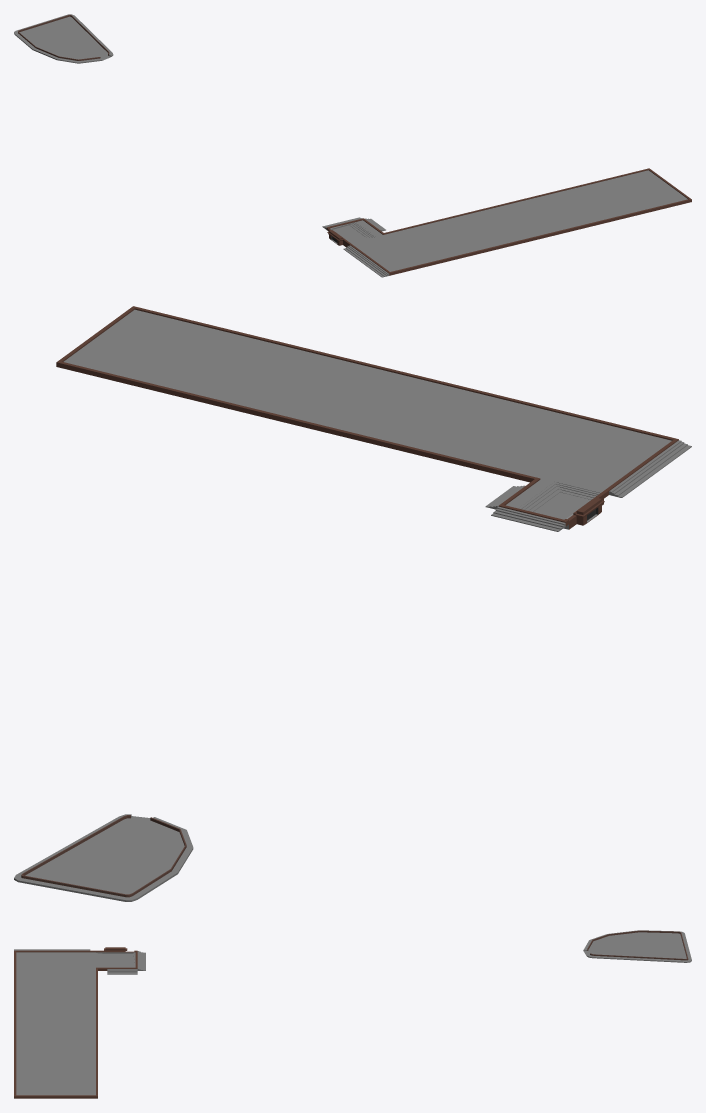
File: Stairs.fbx
The picture shows the model from 3 angles, top to bottom: view 1: azimuth 30°, elevation 25°; view 2: azimuth 150°, elevation 25°; view 3: azimuth 270°, elevation 25°; orthographic projection. The views are drawn at different scales.
Parts seen in each view (by area): view 1: pCube112, pCube111; view 2: pCube112, pCube111, pCube167; view 3: pCube112, pCube111.
Boxes of the visible parts, x1=… form: pCube112: x1=326, y1=168, x2=691, y2=275; pCube111: x1=14, y1=14, x2=113, y2=63; pCube112: x1=56, y1=306, x2=678, y2=529; pCube111: x1=14, y1=814, x2=193, y2=901; pCube167: x1=609, y1=440, x2=691, y2=497; pCube112: x1=14, y1=947, x2=137, y2=1098; pCube111: x1=583, y1=930, x2=691, y2=962.
Size of the model in its own units: 1661 by 39.94 by 2894.
